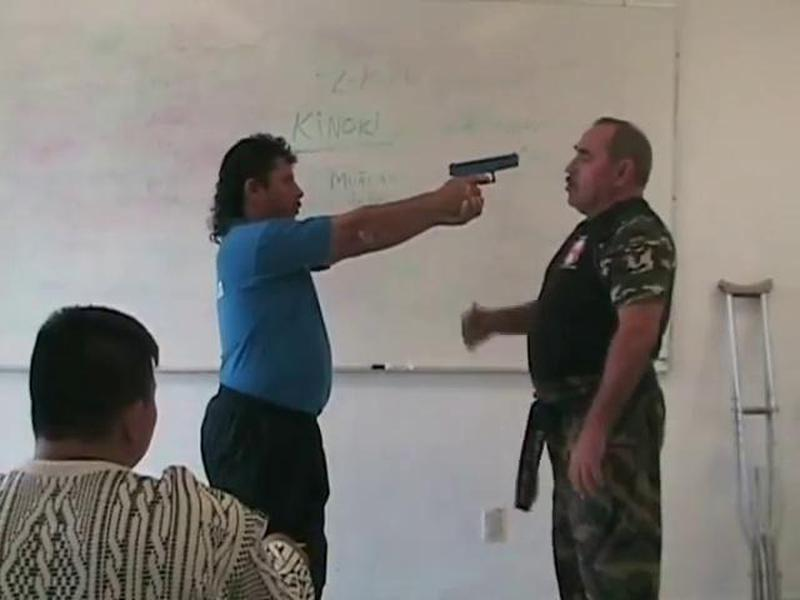Pistola: (445, 147, 527, 199)
